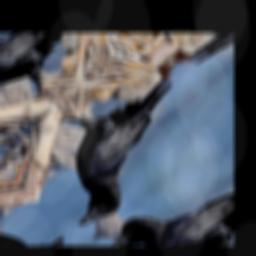Crow: (9, 49, 221, 235)
